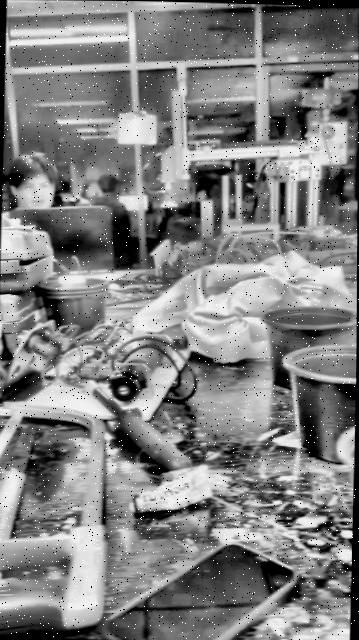pot: (264, 319, 357, 464), (261, 304, 357, 388), (30, 280, 112, 332), (336, 427, 354, 501)
